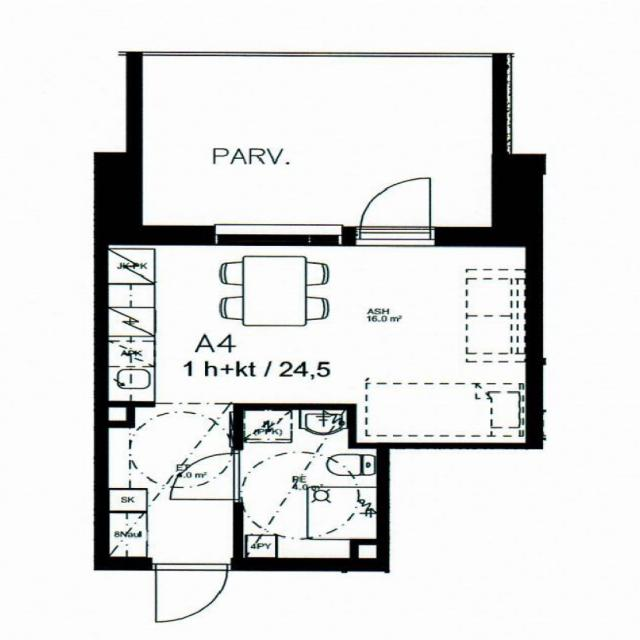door: (360, 174, 430, 245), (155, 563, 226, 622), (170, 453, 242, 499)
